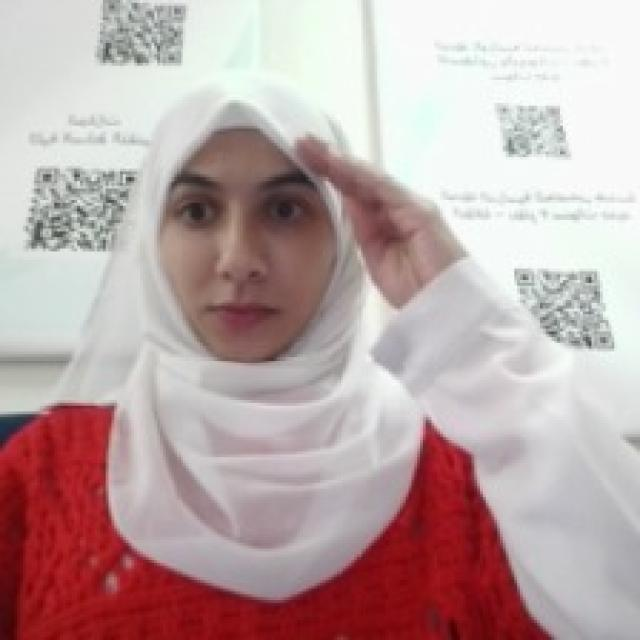Thanks: (286, 125, 471, 308)
